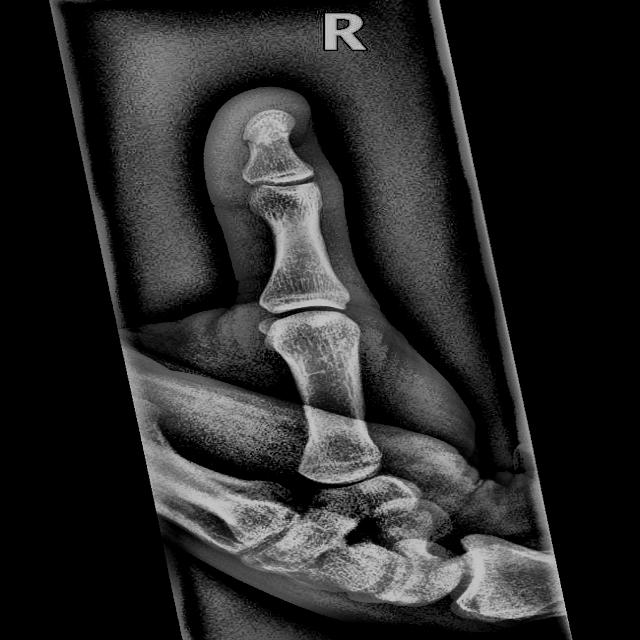fracture: (241, 136, 255, 148)
